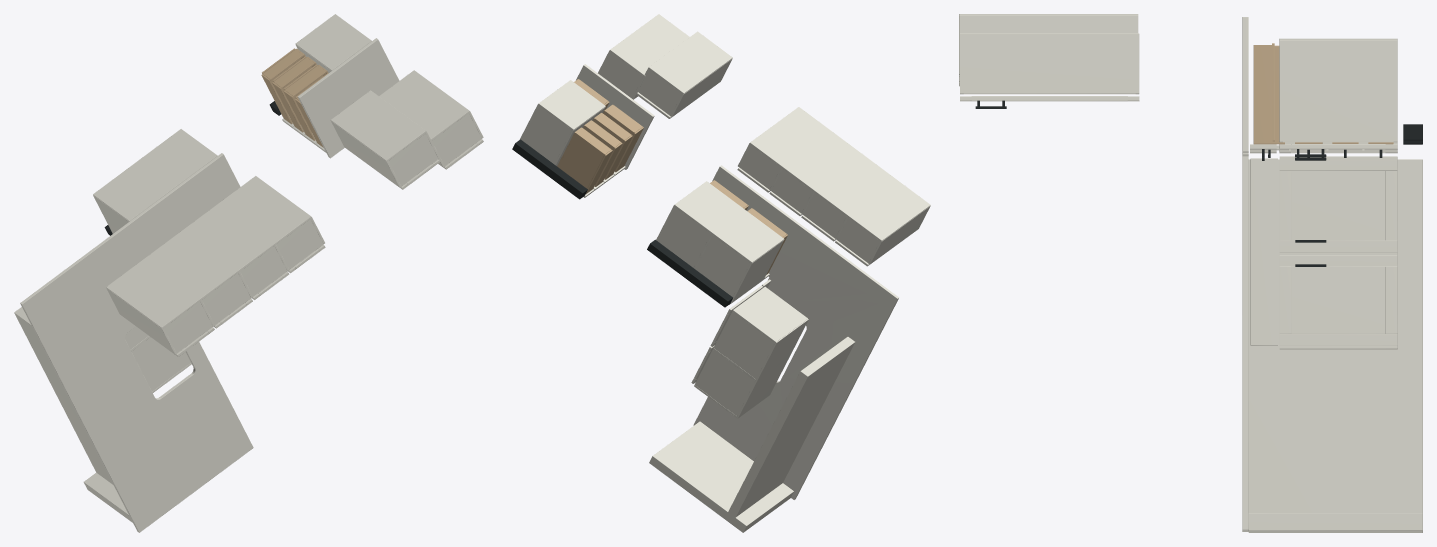
File: cabinetry.glb
The picture shows the model from 3 angles, left to right: view 1: azimuth 30°, elevation 25°; view 2: azimuth 150°, elevation 25°; view 3: azimuth 270°, elevation 25°; orthographic projection. The views are drawn at different scales.
Visible parts, largest first — view 1: 38_Main_countertop, 7_Right_countertop, 1001_back shell, 1007_back shell, 1006_back shell, 1003_back shell, 1004_back shell, 1002_back shell, 28_back shell, 29_back shell, 75_back shell, Peninsula outer support (+10 smaller); view 2: 38_Main_countertop, Peninsula end support, Peninsula outer support, 1001_back shell, 1007_back shell, 1006_back shell, 1003_back shell, 1004_back shell, 1002_back shell, 79_base, 79_right shell, 37_base (+21 smaller); view 3: Peninsula outer support, 75_right shell, 1002_right shell, 79_door_inset, 37_door_inset, Sink fixed false drawer, Peninsula end support, 1001_right shell, 38_Main_countertop, 6_right wall, 79_left stile, 37_left stile (+11 smaller).
Part boxes in pixels (x1,y1,x2,y2): 38_Main_countertop: (20, 153, 253, 532); 7_Right_countertop: (297, 38, 399, 158); 1001_back shell: (331, 90, 426, 161); 1007_back shell: (106, 258, 200, 328); 1006_back shell: (145, 230, 238, 300); 1003_back shell: (219, 176, 311, 244); 1004_back shell: (182, 203, 274, 271); 1002_back shell: (379, 70, 469, 140); 28_back shell: (93, 161, 173, 221); 29_back shell: (137, 129, 217, 188); 75_back shell: (295, 14, 371, 70); Peninsula outer support: (14, 307, 113, 484); 38_Main_countertop: (693, 165, 898, 499); Peninsula end support: (649, 421, 793, 532); Peninsula outer support: (725, 337, 855, 520); 1001_back shell: (648, 31, 732, 93); 1007_back shell: (847, 180, 930, 241); 1006_back shell: (813, 154, 896, 215); 1003_back shell: (749, 107, 831, 167); 1004_back shell: (781, 131, 862, 191); 1002_back shell: (610, 14, 689, 76); 79_base: (713, 311, 774, 378); 79_right shell: (732, 286, 807, 343); 37_base: (694, 349, 754, 415); Peninsula outer support: (1248, 159, 1422, 513); 75_right shell: (1279, 40, 1397, 141); 1002_right shell: (960, 35, 1139, 93); 79_door_inset: (1291, 171, 1385, 240); 37_door_inset: (1291, 266, 1385, 333); Sink fixed false drawer: (1250, 158, 1277, 345); Peninsula end support: (1248, 513, 1422, 532); 1001_right shell: (959, 15, 1138, 74); 38_Main_countertop: (1242, 153, 1248, 531); 6_right wall: (1253, 45, 1272, 142); 79_left stile: (1279, 240, 1397, 252); 37_left stile: (1279, 334, 1397, 345).
Size of the model in its own units: 3.71 by 3.98 by 2.38.
